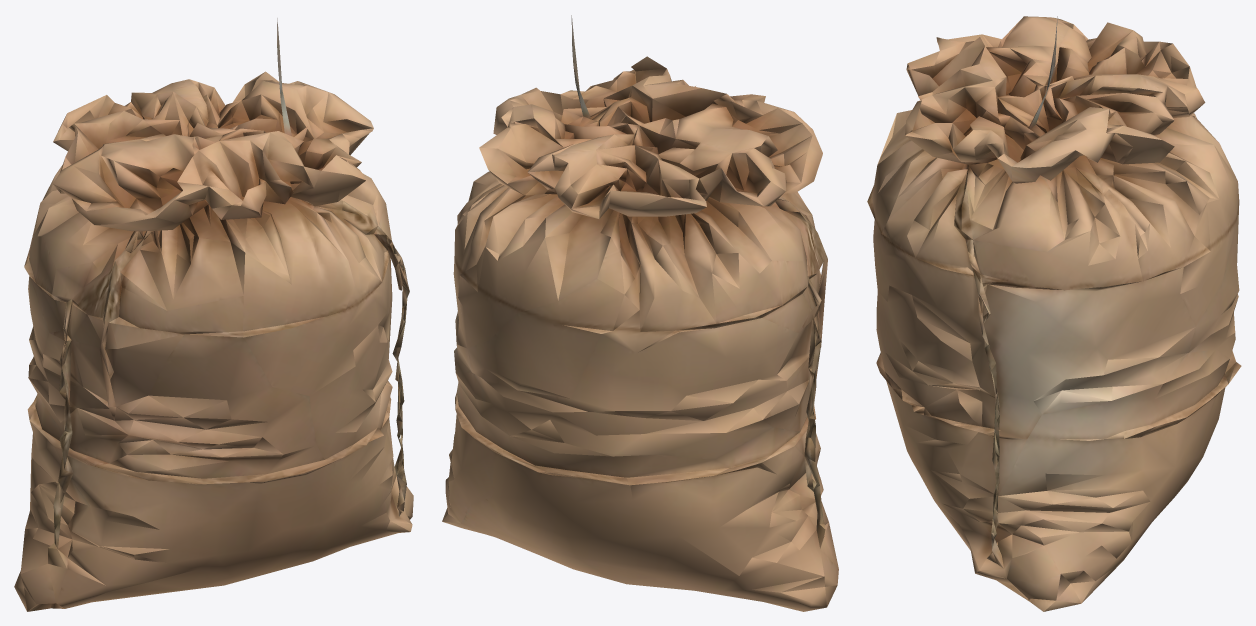
File: m2SwingSandbag.glb
3 views of the same model, side by side, from view 1: azimuth 30°, elevation 25°; view 2: azimuth 150°, elevation 25°; view 3: azimuth 270°, elevation 25° (orthographic).
Parts seen in each view (by area): view 1: model; view 2: model; view 3: model.
Part boxes in pixels (x1,y1,x2,y2): model: (14, 18, 413, 611); model: (442, 15, 838, 611); model: (867, 16, 1241, 611).
Size of the model in its own units: 1.36 by 1.84 by 1.15.
1 material, 1 textured.
